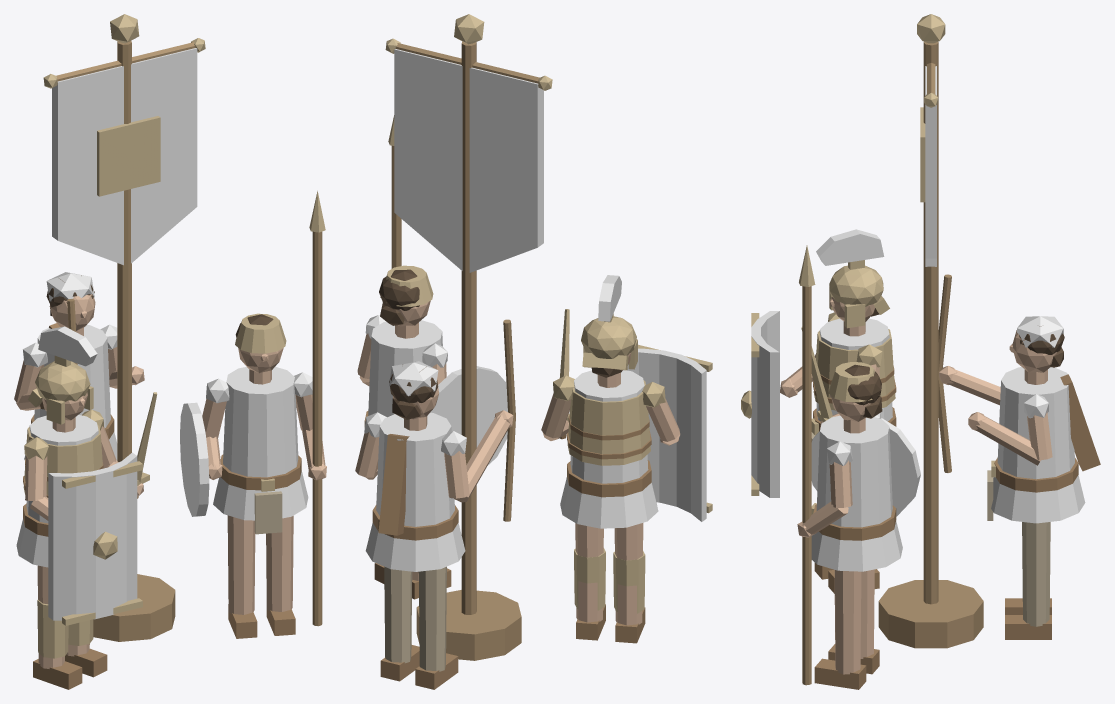
File: civ_unit_army.glb
The picture shows the model from 3 angles, left to right: view 1: azimuth 30°, elevation 25°; view 2: azimuth 150°, elevation 25°; view 3: azimuth 270°, elevation 25°; orthographic projection. The views are drawn at different scales.
Parts seen in each view (by area): view 1: civ_unit_army; view 2: civ_unit_army; view 3: civ_unit_army.
Boxes of the visible parts, x1,y1,x2,y2 form: civ_unit_army: [14, 14, 326, 689]; civ_unit_army: [355, 14, 712, 689]; civ_unit_army: [741, 14, 1100, 689].
Size of the model in its own units: 1.48 by 2.83 by 1.5.
